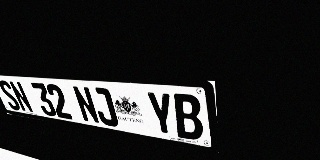2: (45, 83, 73, 120)
3: (30, 82, 58, 117)
B: (171, 93, 204, 141)
J: (89, 87, 120, 127)
N: (71, 86, 101, 124), (8, 81, 34, 113)
S: (0, 80, 22, 111)
Y: (145, 91, 177, 137)
